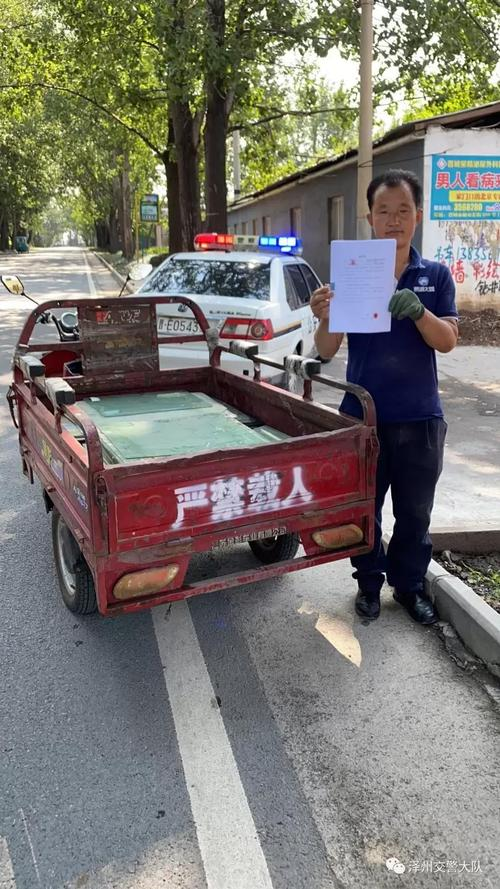empty: (17, 258, 389, 616)
